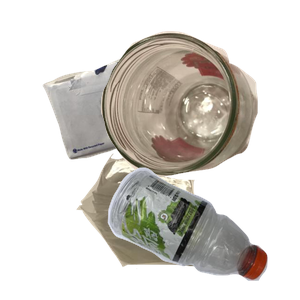glass: (98, 29, 300, 198)
paper: (40, 35, 249, 187)
plastic: (105, 165, 300, 300)
trash: (74, 148, 273, 300)
